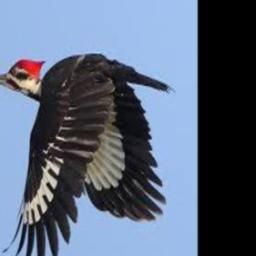Woodpecker: (0, 52, 177, 256)
